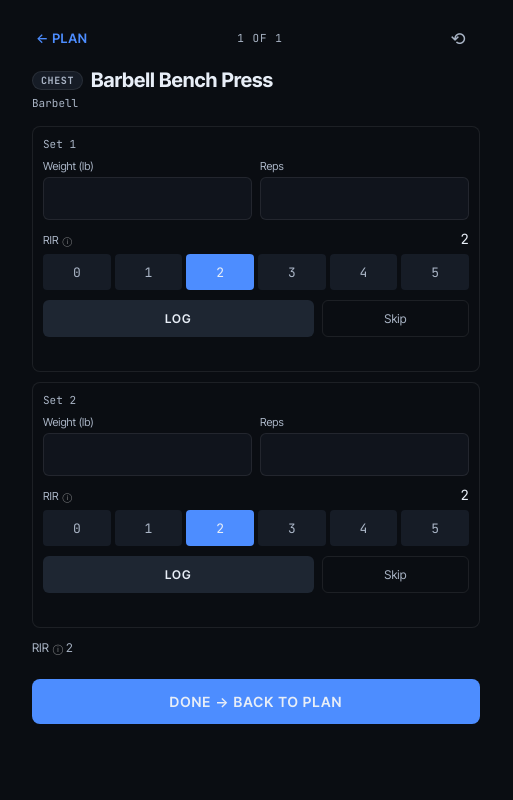
Test: <TodayLoggerMobile> › focus screen › rest timer started on the focus screen stays visible after navigating back to the hub
Type "185" into the number field named "weight in pounds".
click(148, 198); type("185")  # box [43,177,252,220]
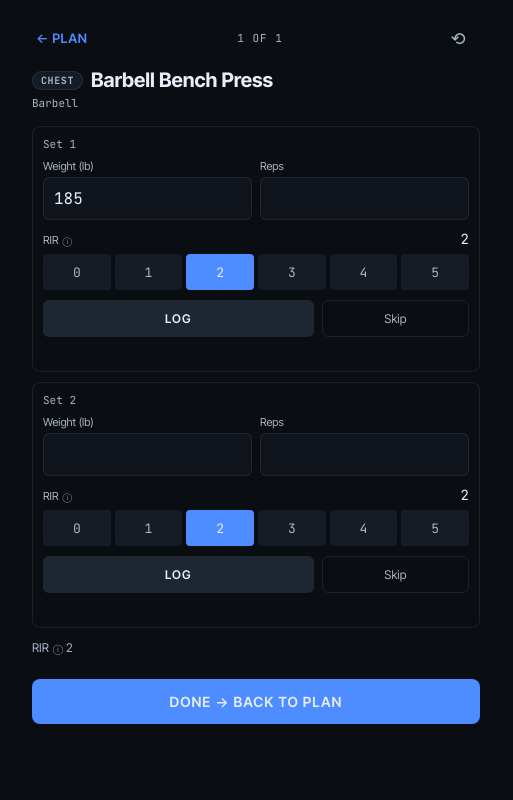
Type "7" into the number field named "Set 1 reps".
click(364, 198); type("7")  # box [260,177,469,220]
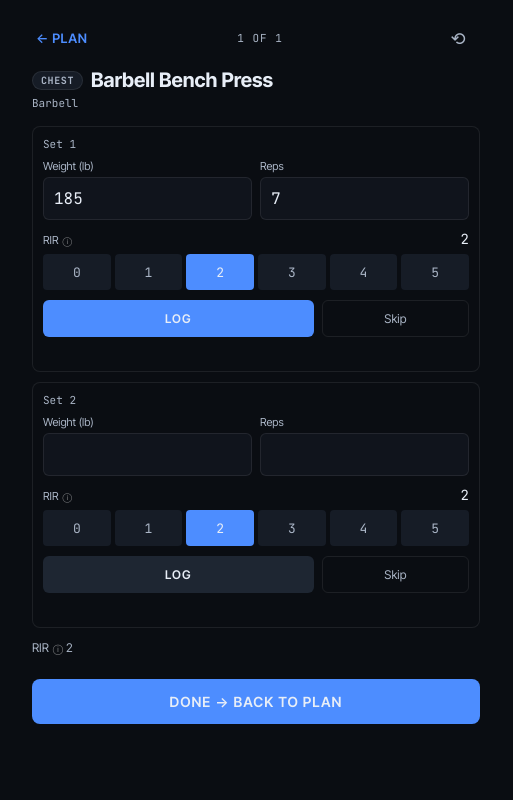
Click the 1st button "Log".
click(178, 318)  # box [43,300,314,337]
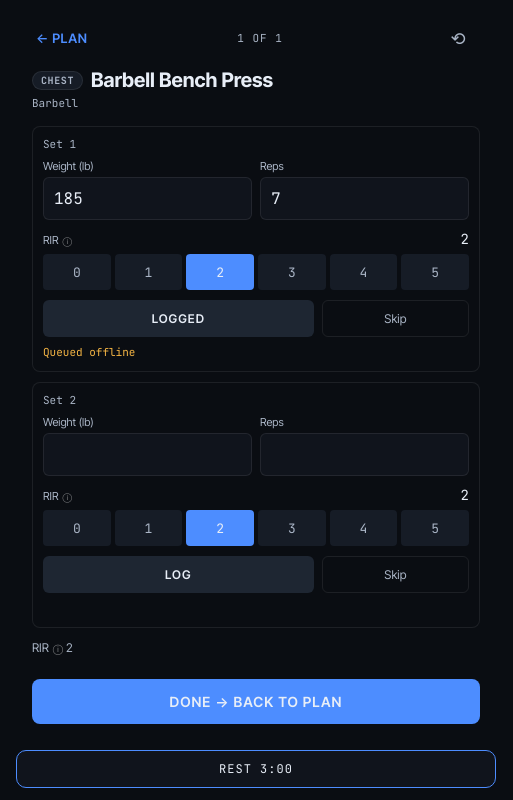
Check: the message with test id "rest-timer" reads "REST 3:00", box [16,750,496,788]
Click the button with aria-label "back to plan".
click(135, 38)  # box [32,16,237,60]
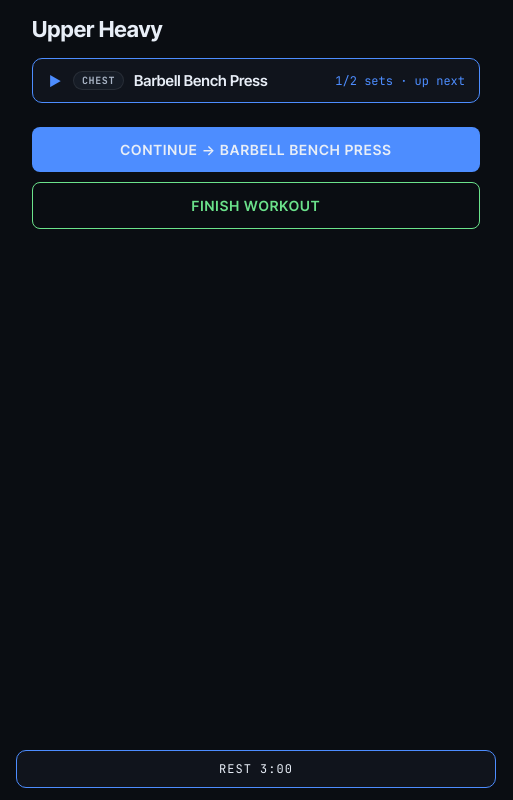
Check: the message with test id "rest-timer" reads "REST 3:00", box [16,750,496,788]
Check: the button with test id "hub-row-0" is shown, box [32,58,480,103]
